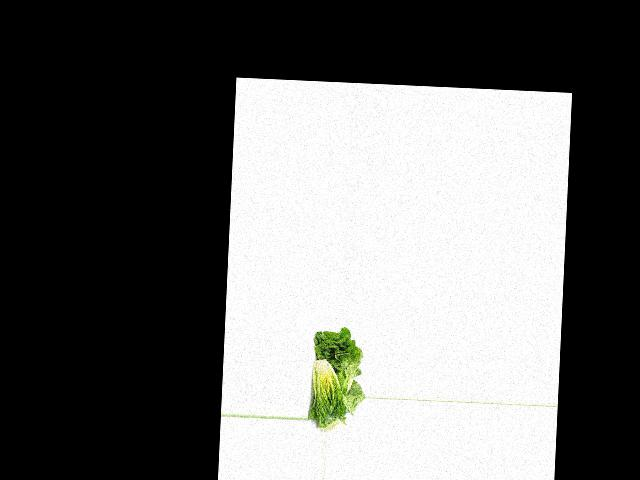lettuce: (308, 327, 364, 391)
